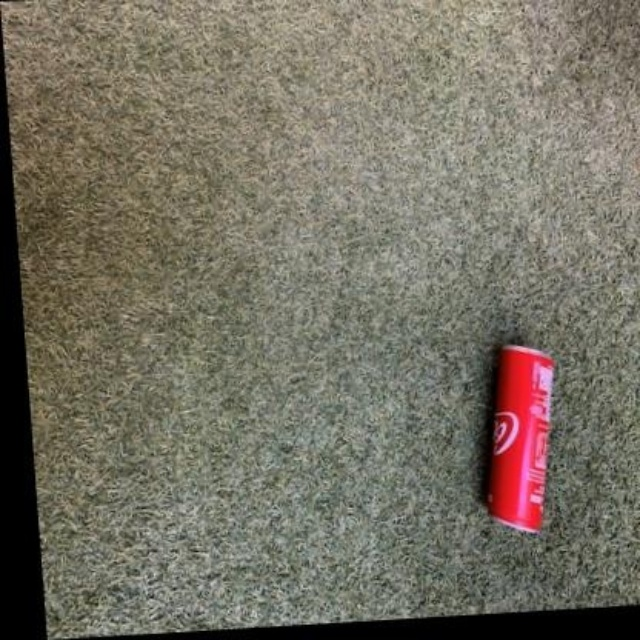trash: (488, 345, 552, 531)
